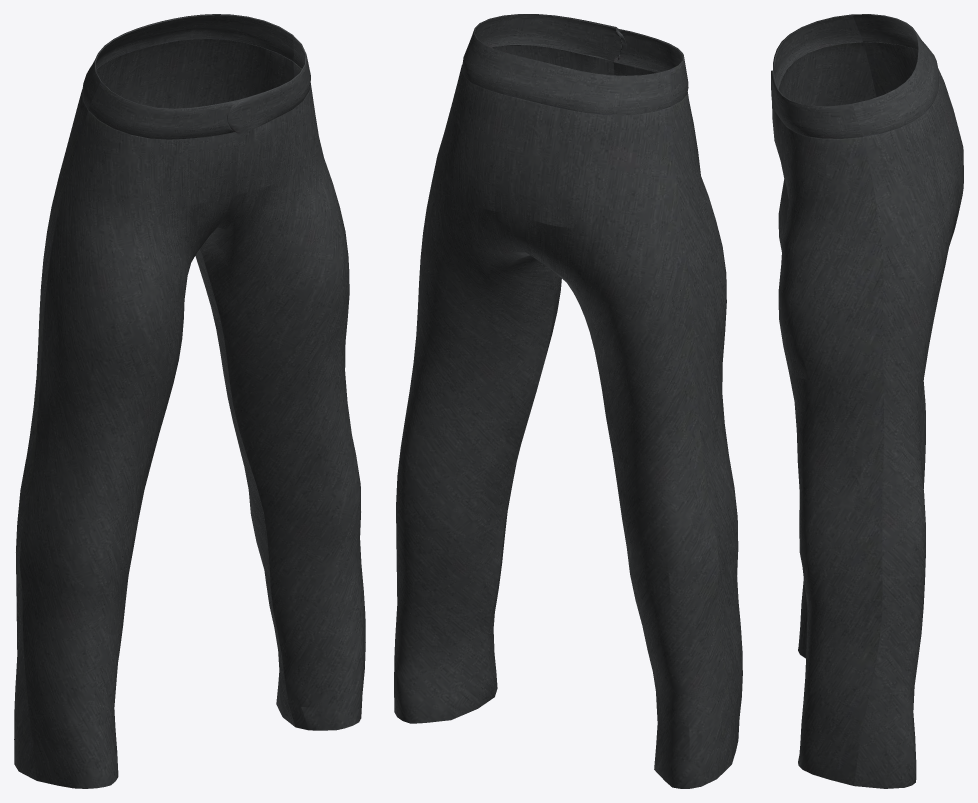
Rendered from toigo-wool-pants.glb.
The picture shows the model from 3 angles, left to right: view 1: azimuth 30°, elevation 25°; view 2: azimuth 150°, elevation 25°; view 3: azimuth 270°, elevation 25°; orthographic projection. The views are drawn at different scales.
Parts seen in each view (by area): view 1: wool pants; view 2: wool pants; view 3: wool pants.
Boxes of the visible parts, x1,y1,x2,y2 form: wool pants: [14, 14, 365, 788]; wool pants: [394, 14, 742, 788]; wool pants: [771, 14, 963, 788].
Bounding box in the file's own units: 48.47 × 100 × 26.22.
1 material, 1 textured.
